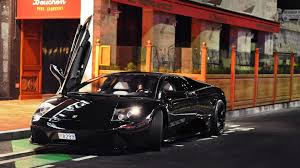Lamborghini: (40, 73, 227, 141)
